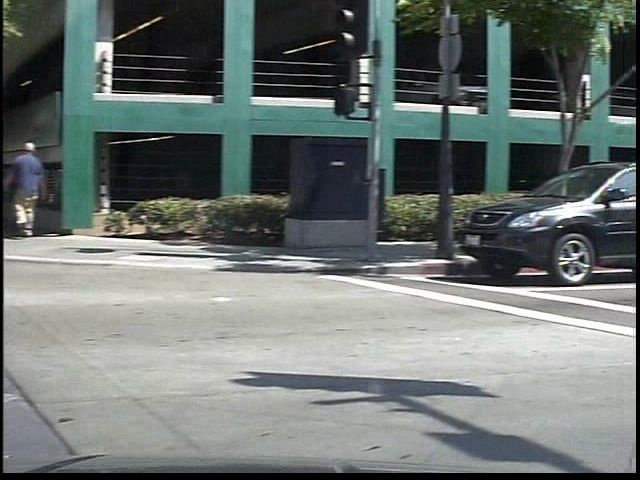person: (18, 136, 71, 243)
